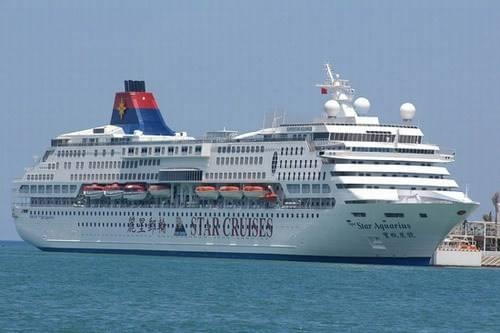youlun: (8, 73, 475, 254)
